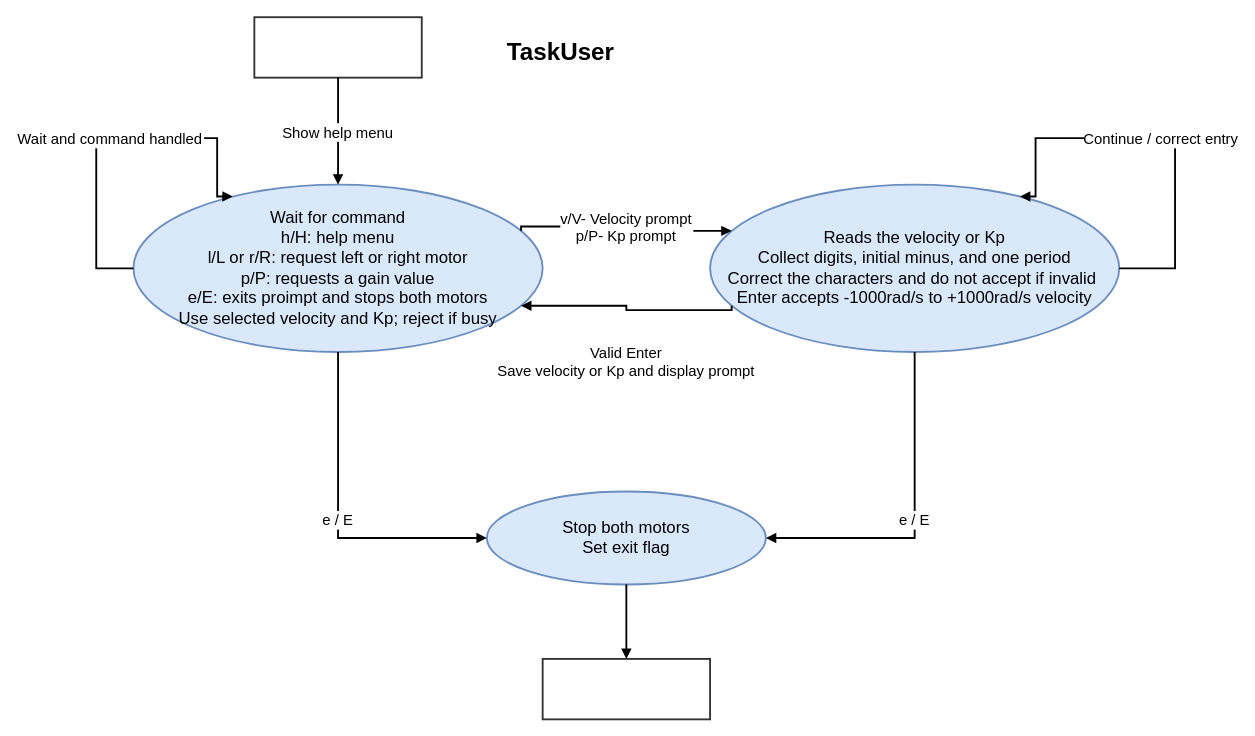
This 1255x736 diagram has some shape labels left out. The shapes that lost their labels are listed below. From the top down, each one's centre as x and y in pixels, then its label:
the point at 337,47: Start
the point at 626,689: End
